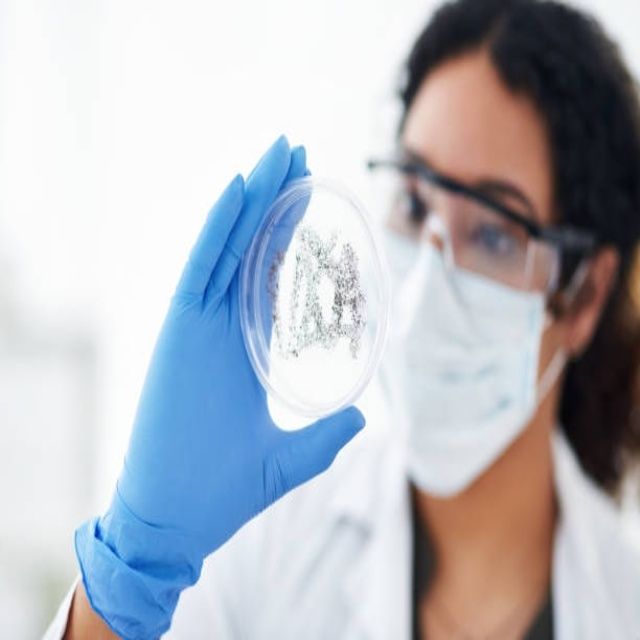Gafas: (366, 156, 599, 303)
Guantes: (74, 139, 367, 637)
Mascara: (380, 207, 564, 497)
